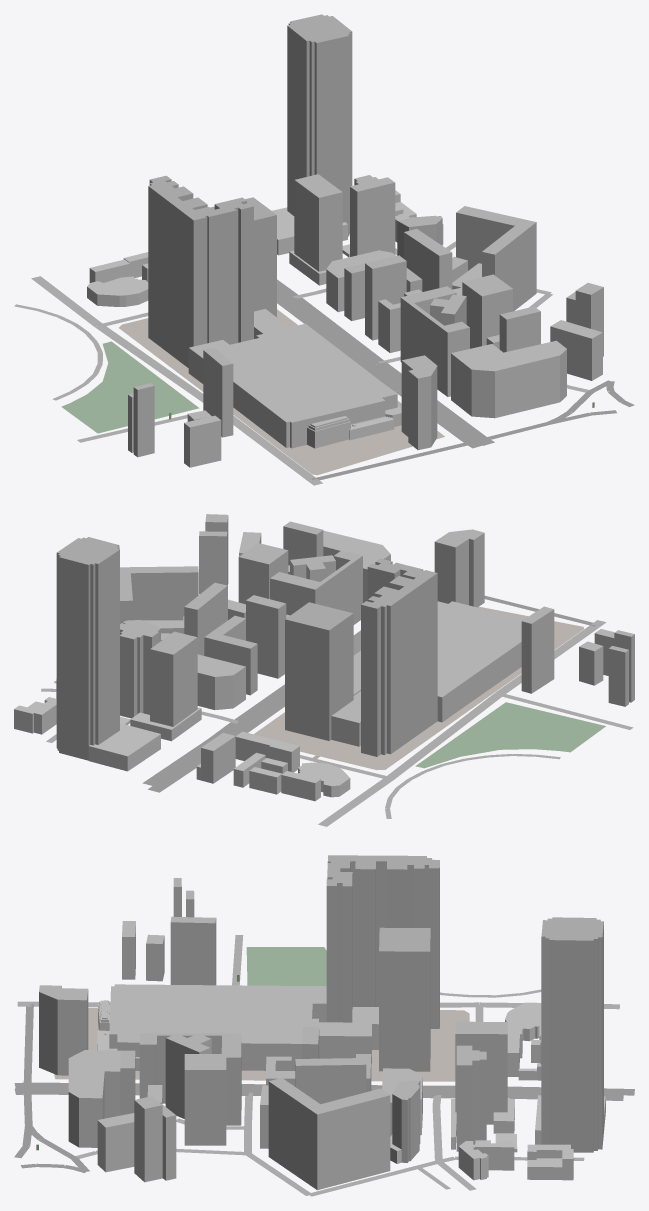
3 views of the same model, one above another, from view 1: azimuth 30°, elevation 25°; view 2: azimuth 150°, elevation 25°; view 3: azimuth 270°, elevation 25° (orthographic). The views are drawn at different scales.
Bounding box in the file's own units: 557 × 211 × 557.
